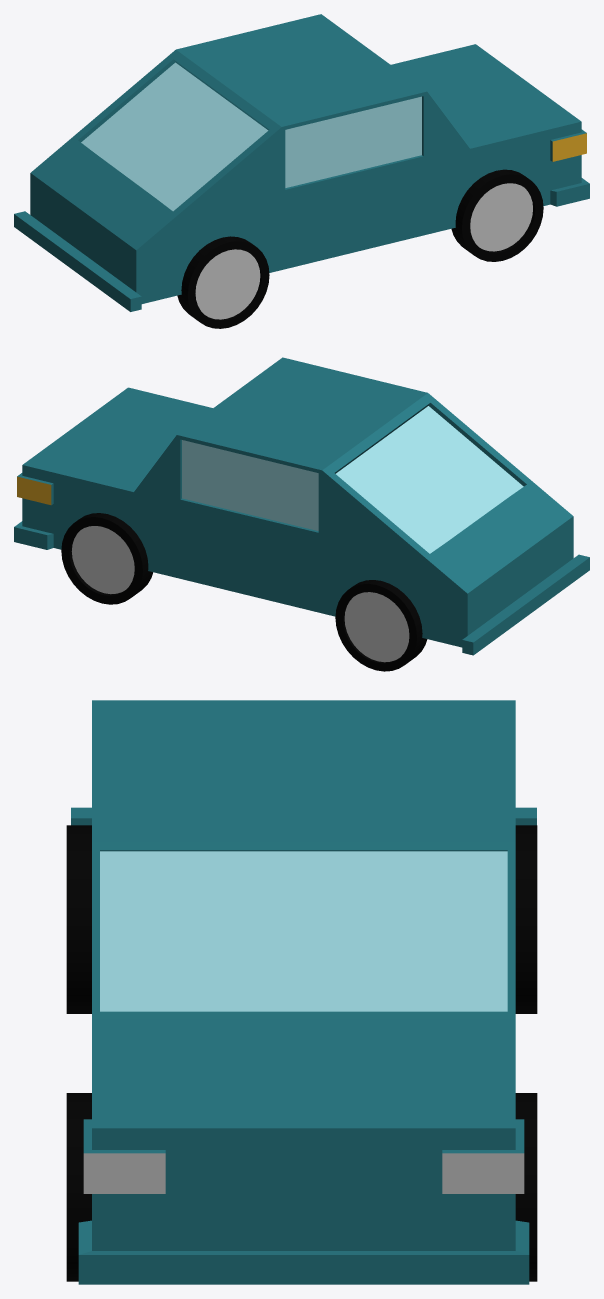
Rendered from Car1.fbx.
3 renders of one model, top to bottom at view 1: azimuth 30°, elevation 25°; view 2: azimuth 150°, elevation 25°; view 3: azimuth 270°, elevation 25°, orthographic. The views are drawn at different scales.
Visible parts, largest first — view 1: Cube.2307, Cylinder.737; view 2: Cube.2307, Cylinder.737; view 3: Cube.2307, Cylinder.737.
Part boxes in pixels (x1,y1,x2,y2): Cube.2307: [14, 14, 589, 311]; Cylinder.737: [177, 169, 543, 328]; Cube.2307: [14, 357, 589, 655]; Cylinder.737: [61, 513, 427, 671]; Cube.2307: [71, 700, 536, 1284]; Cylinder.737: [66, 825, 537, 1281].
Bounding box in the file's own units: 1749 × 658 × 773.
